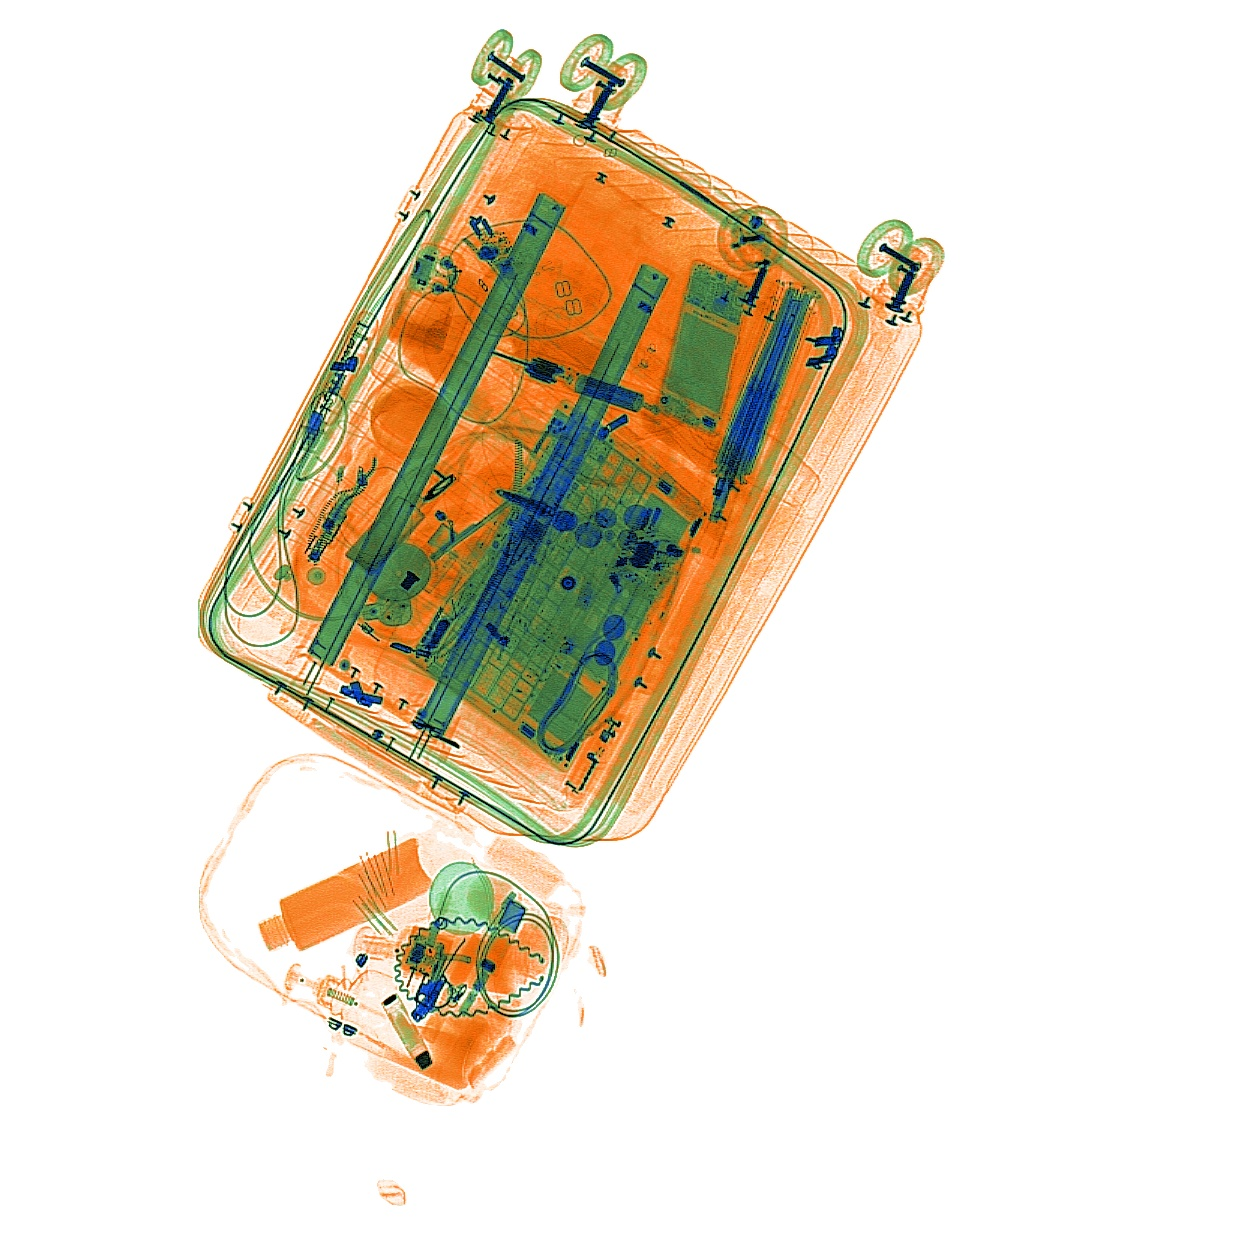glassbottle: (344, 488, 433, 574)
laptop: (403, 397, 719, 761)
smallelectronicequipment: (652, 259, 757, 438)
umbrella: (700, 281, 823, 508)
